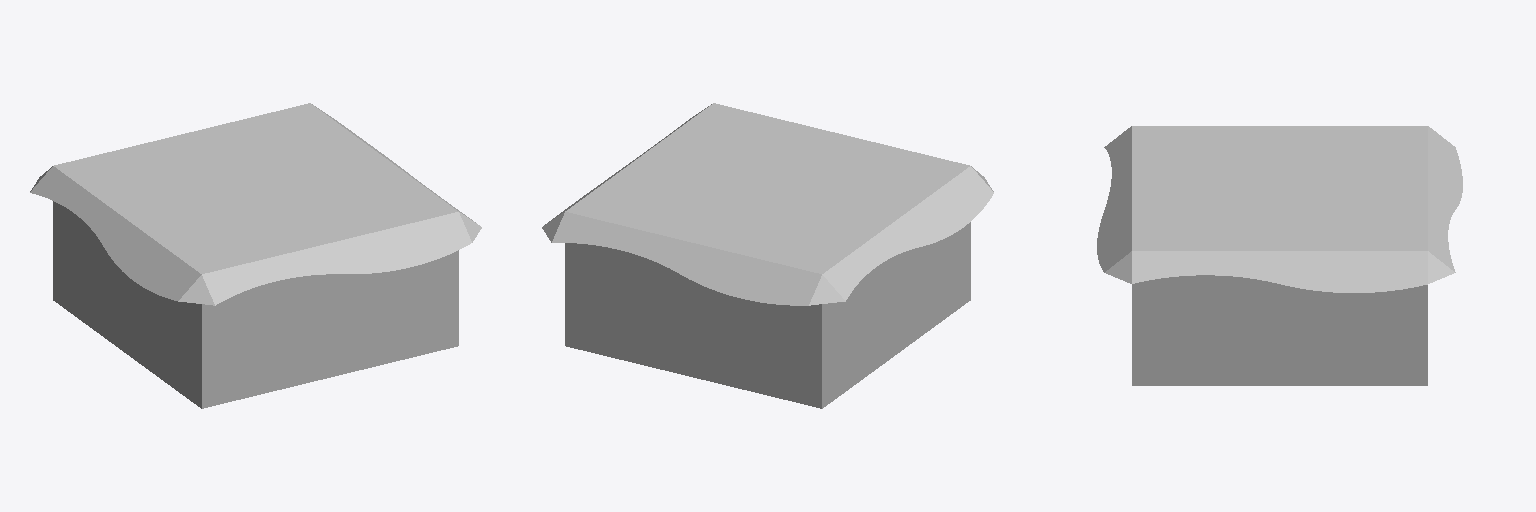
File: blockSnow.obj
The picture shows the model from 3 angles: view 1: azimuth 30°, elevation 25°; view 2: azimuth 150°, elevation 25°; view 3: azimuth 270°, elevation 25°; orthographic projection.
Parts seen in each view (by area): view 1: blockSnow; view 2: blockSnow; view 3: blockSnow.
Part boxes in pixels (x1,y1,x2,y2): blockSnow: (30,103,481,408); blockSnow: (542,103,993,408); blockSnow: (1097,126,1462,385).
Bounding box in the file's own units: 4.87 × 1.97 × 4.87.